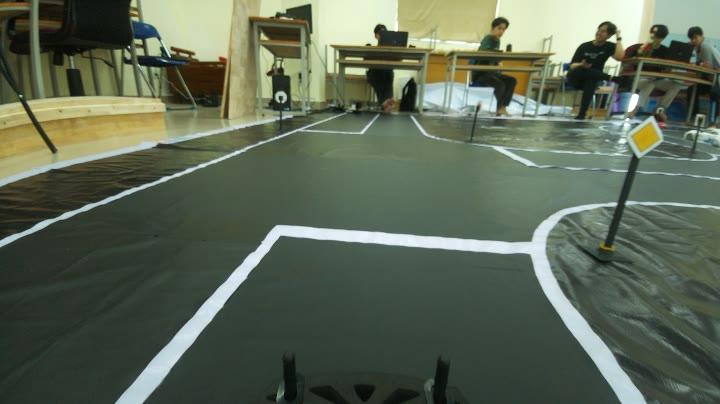priority: (620, 113, 668, 159)
